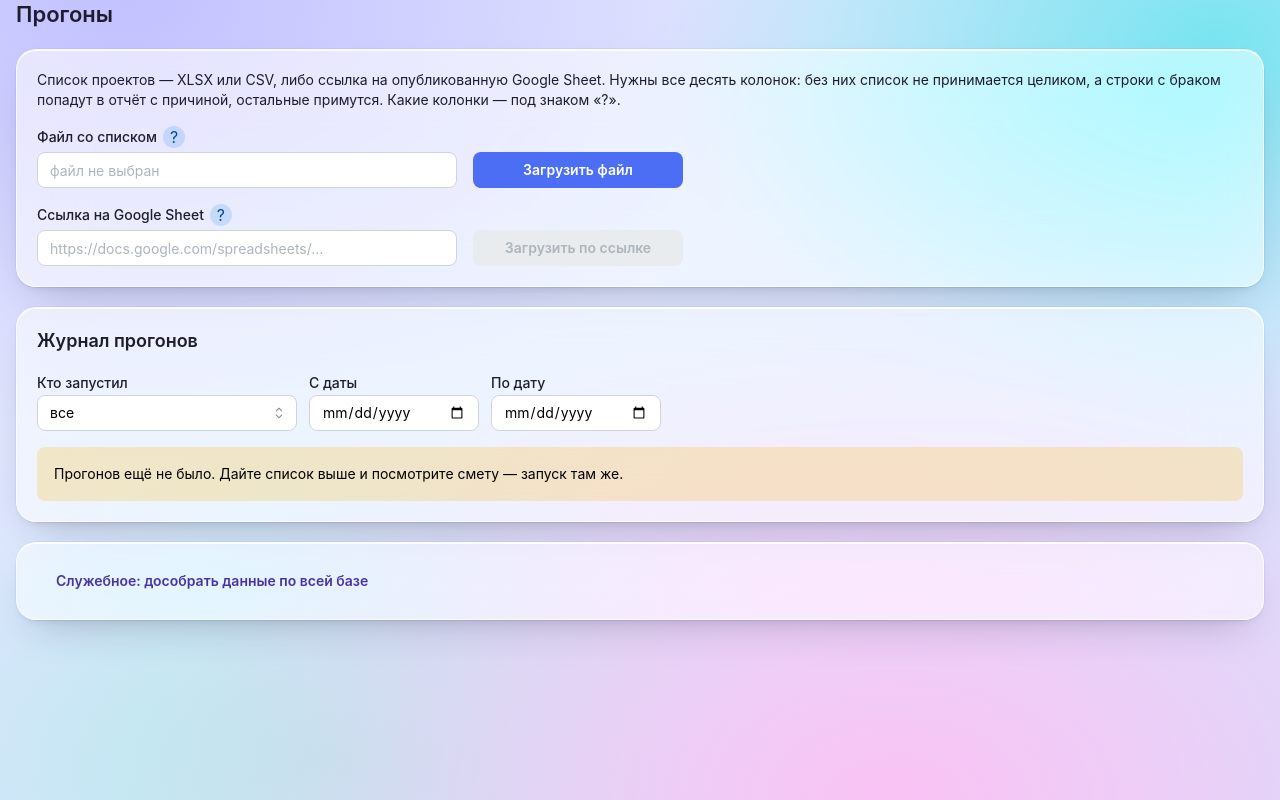
Test: экран загрузки: прогон › E11: запуск показывает номер прогона и его состояние
This screenshot has width=1280, height=800.
Click the button "Служебное: дособрать данные по всей базе": point(212, 581) [37,563,387,599]
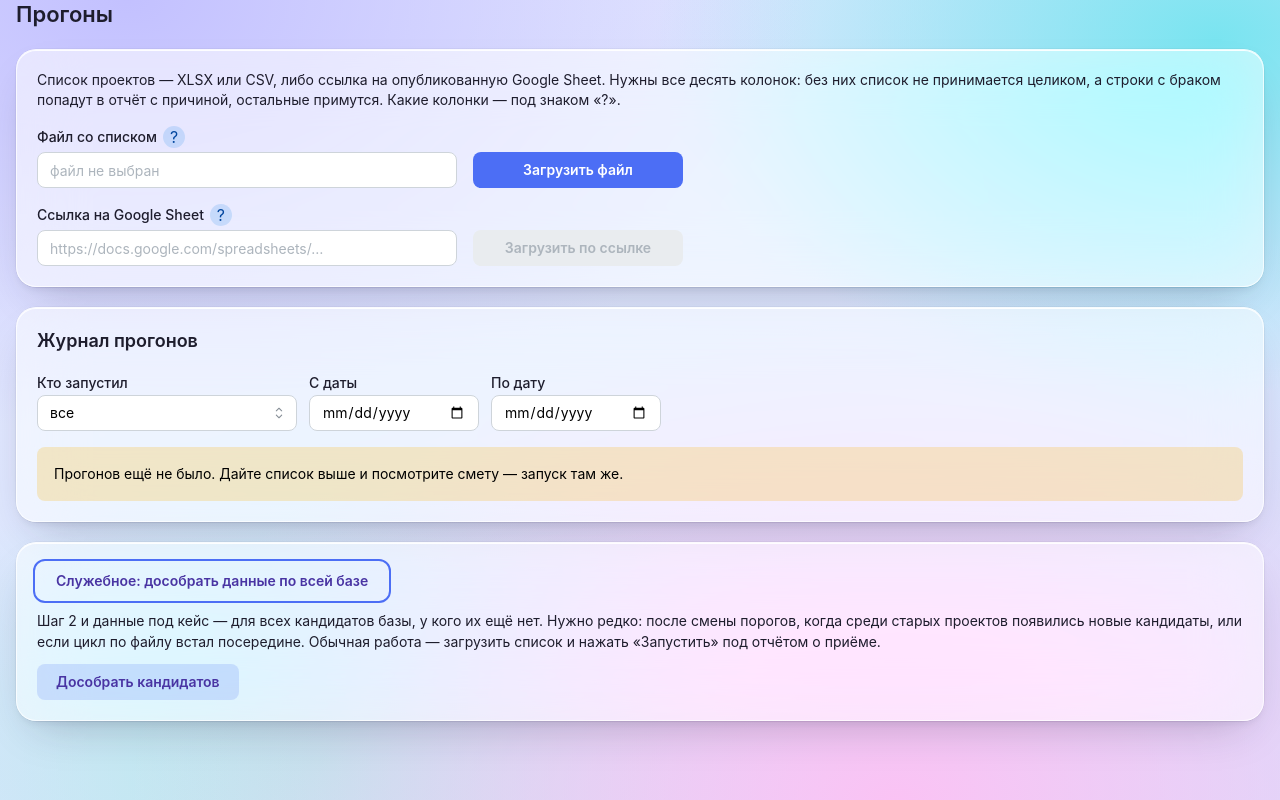
Click the button "Дособрать кандидатов": point(138, 682) [37,664,239,700]
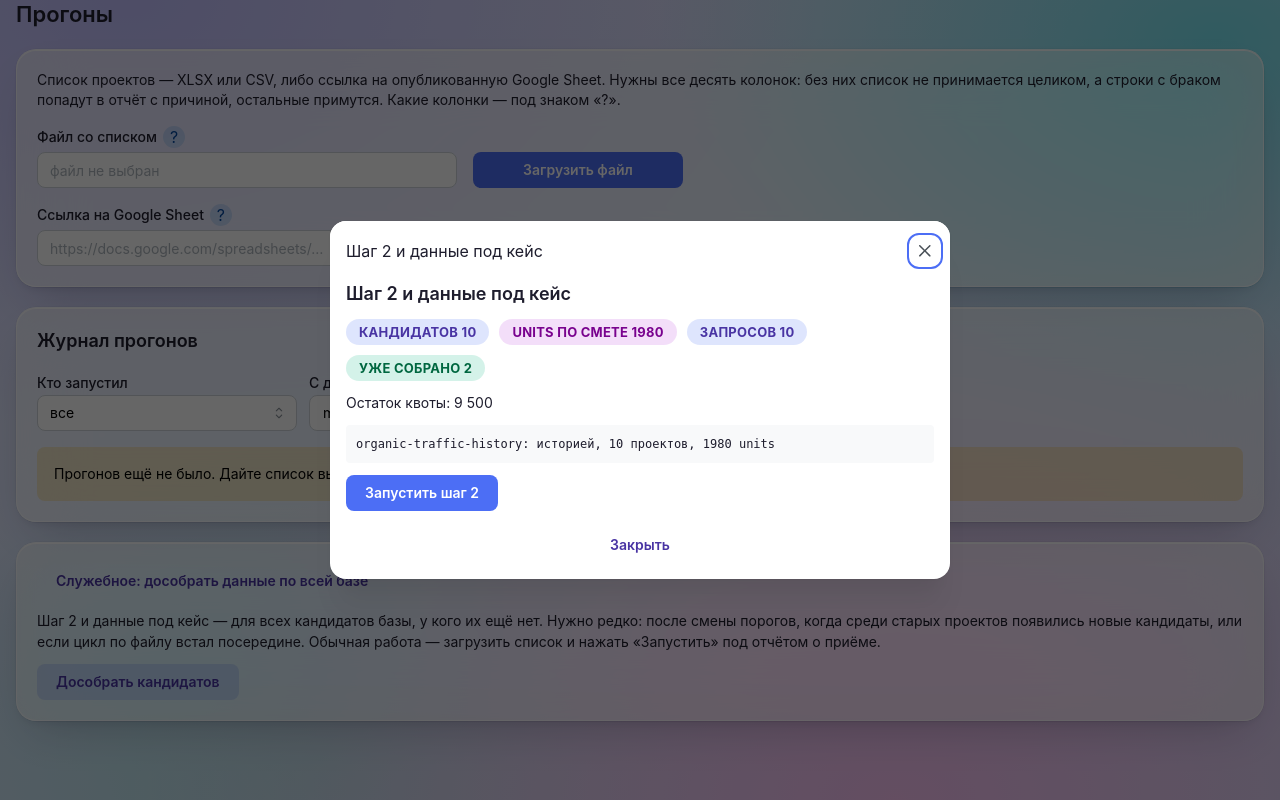
Expected: the dialog is shown, [330,220,950,580]
Click the button with test id "start-run": point(422, 494) [346,476,498,512]
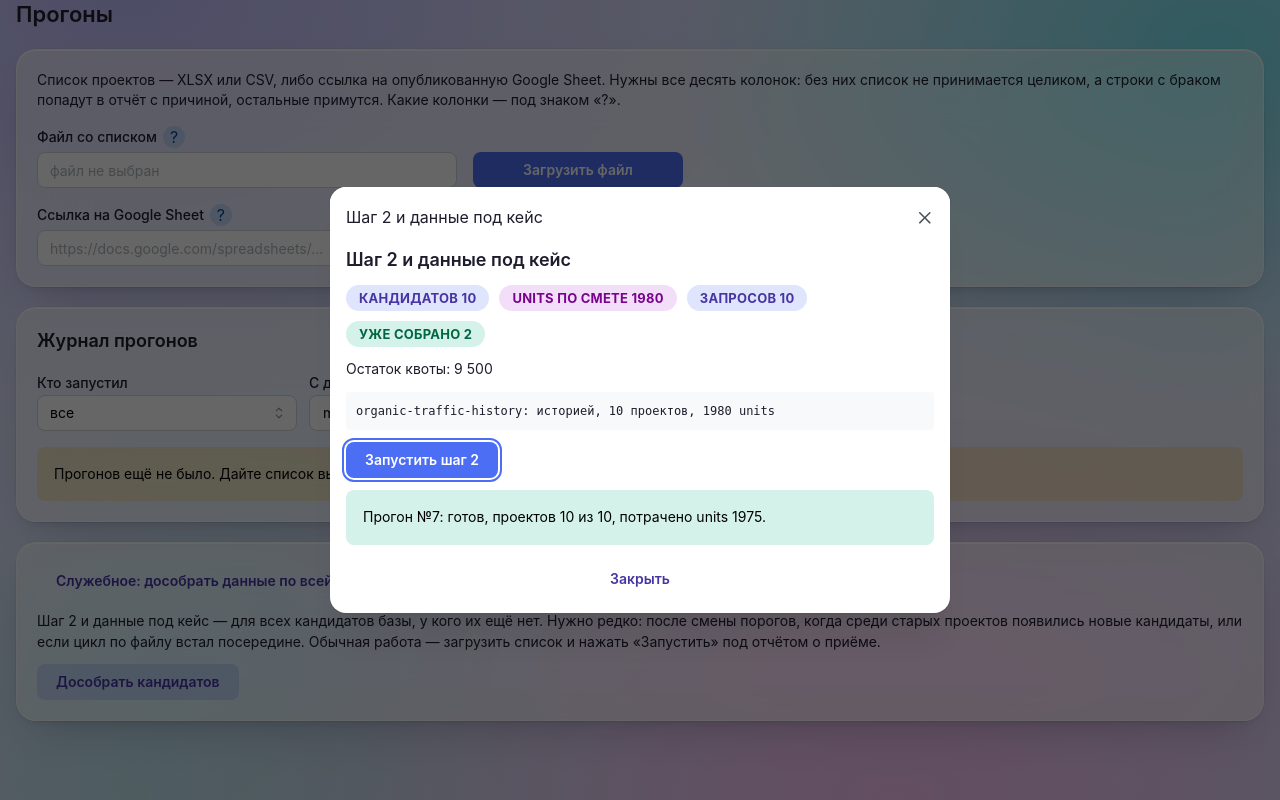
Expected: the text "Прогон №7: готов, проектов 10 из 10, потрачено units 1975." is shown, [363,508,766,525]
